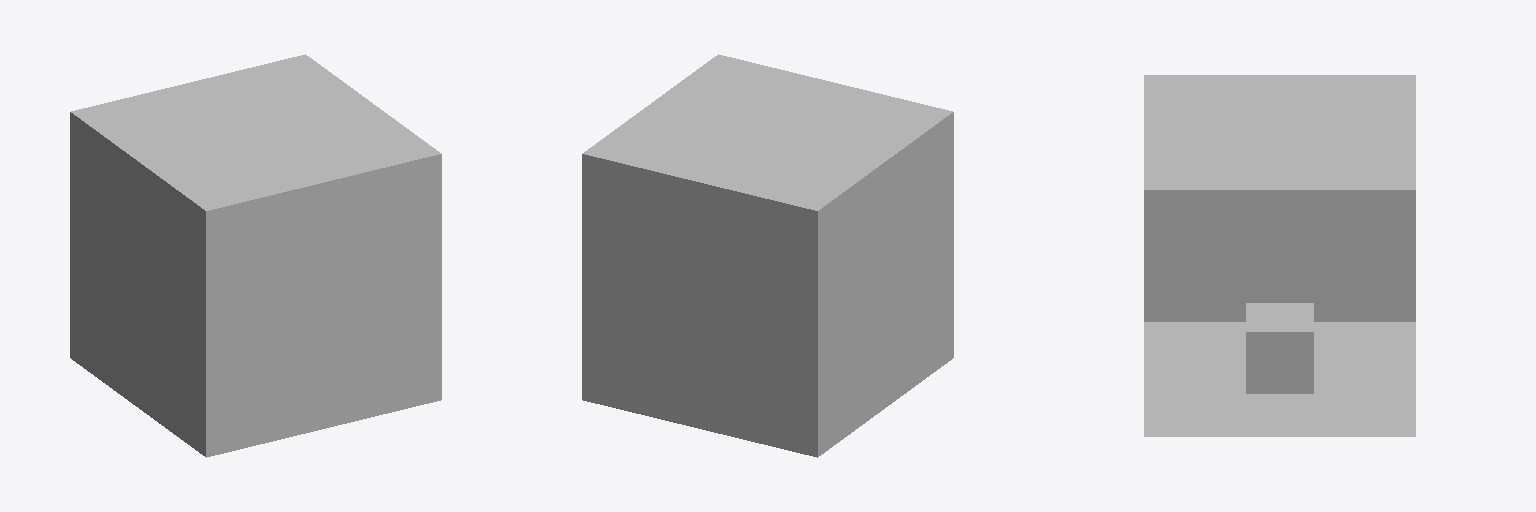
File: cornell voor Ellen.obj
The picture shows the model from 3 angles: view 1: azimuth 30°, elevation 25°; view 2: azimuth 150°, elevation 25°; view 3: azimuth 270°, elevation 25°; orthographic projection.
Visible parts, largest first — view 1: ext_vlak.001_Plane.002, ext_vlak.002_Plane.003, ext_vlak.004_Plane.001, ext_vlak.005_Plane.006, ext_vlak.008_Plane.015, ext_vlak.007_Plane.013, ext_vlak.006_Plane.014; view 2: ext_vlak.003_Plane.004, ext_vlak.002_Plane.003, ext_vlak.005_Plane.006, ext_vlak.004_Plane.001, ext_vlak.008_Plane.015, ext_vlak.007_Plane.013, ext_vlak.006_Plane.014; view 3: ext_vlak.002_Plane.003, ext_vlak_Plane, ext_vlak.005_Plane.006, ext_vlak.004_Plane.001, r_vlak_3_Plane.010, ext_vlak.008_Plane.015, r_vlak_4_Plane.011, ext_vlak.006_Plane.014, ext_vlak.007_Plane.013.
Boxes of the visible parts, <box> form: ext_vlak.001_Plane.002: <box>206,154,441,457</box>; ext_vlak.002_Plane.003: <box>70,112,205,456</box>; ext_vlak.004_Plane.001: <box>152,114,440,210</box>; ext_vlak.005_Plane.006: <box>71,54,358,150</box>; ext_vlak.008_Plane.015: <box>196,111,315,153</box>; ext_vlak.007_Plane.013: <box>290,94,386,130</box>; ext_vlak.006_Plane.014: <box>125,134,221,170</box>; ext_vlak.003_Plane.004: <box>582,154,817,457</box>; ext_vlak.002_Plane.003: <box>818,112,953,456</box>; ext_vlak.005_Plane.006: <box>583,114,871,210</box>; ext_vlak.004_Plane.001: <box>665,54,952,150</box>; ext_vlak.008_Plane.015: <box>708,111,827,153</box>; ext_vlak.007_Plane.013: <box>637,94,733,130</box>; ext_vlak.006_Plane.014: <box>802,134,898,170</box>; ext_vlak.002_Plane.003: <box>1144,190,1415,321</box>; ext_vlak_Plane: <box>1144,322,1415,436</box>; ext_vlak.005_Plane.006: <box>1307,75,1415,189</box>; ext_vlak.004_Plane.001: <box>1144,75,1252,189</box>; r_vlak_3_Plane.010: <box>1246,332,1313,393</box>; ext_vlak.008_Plane.015: <box>1253,110,1306,155</box>; r_vlak_4_Plane.011: <box>1246,303,1313,331</box>; ext_vlak.006_Plane.014: <box>1253,75,1306,109</box>; ext_vlak.007_Plane.013: <box>1253,156,1306,189</box>.
Bounding box in the file's own units: 10 × 10 × 10.